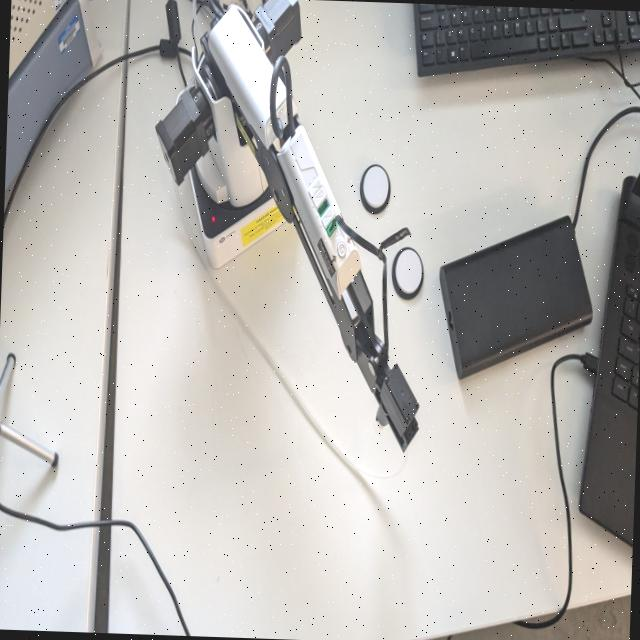Robot-end-effector-HF8z: (366, 356, 424, 458)
